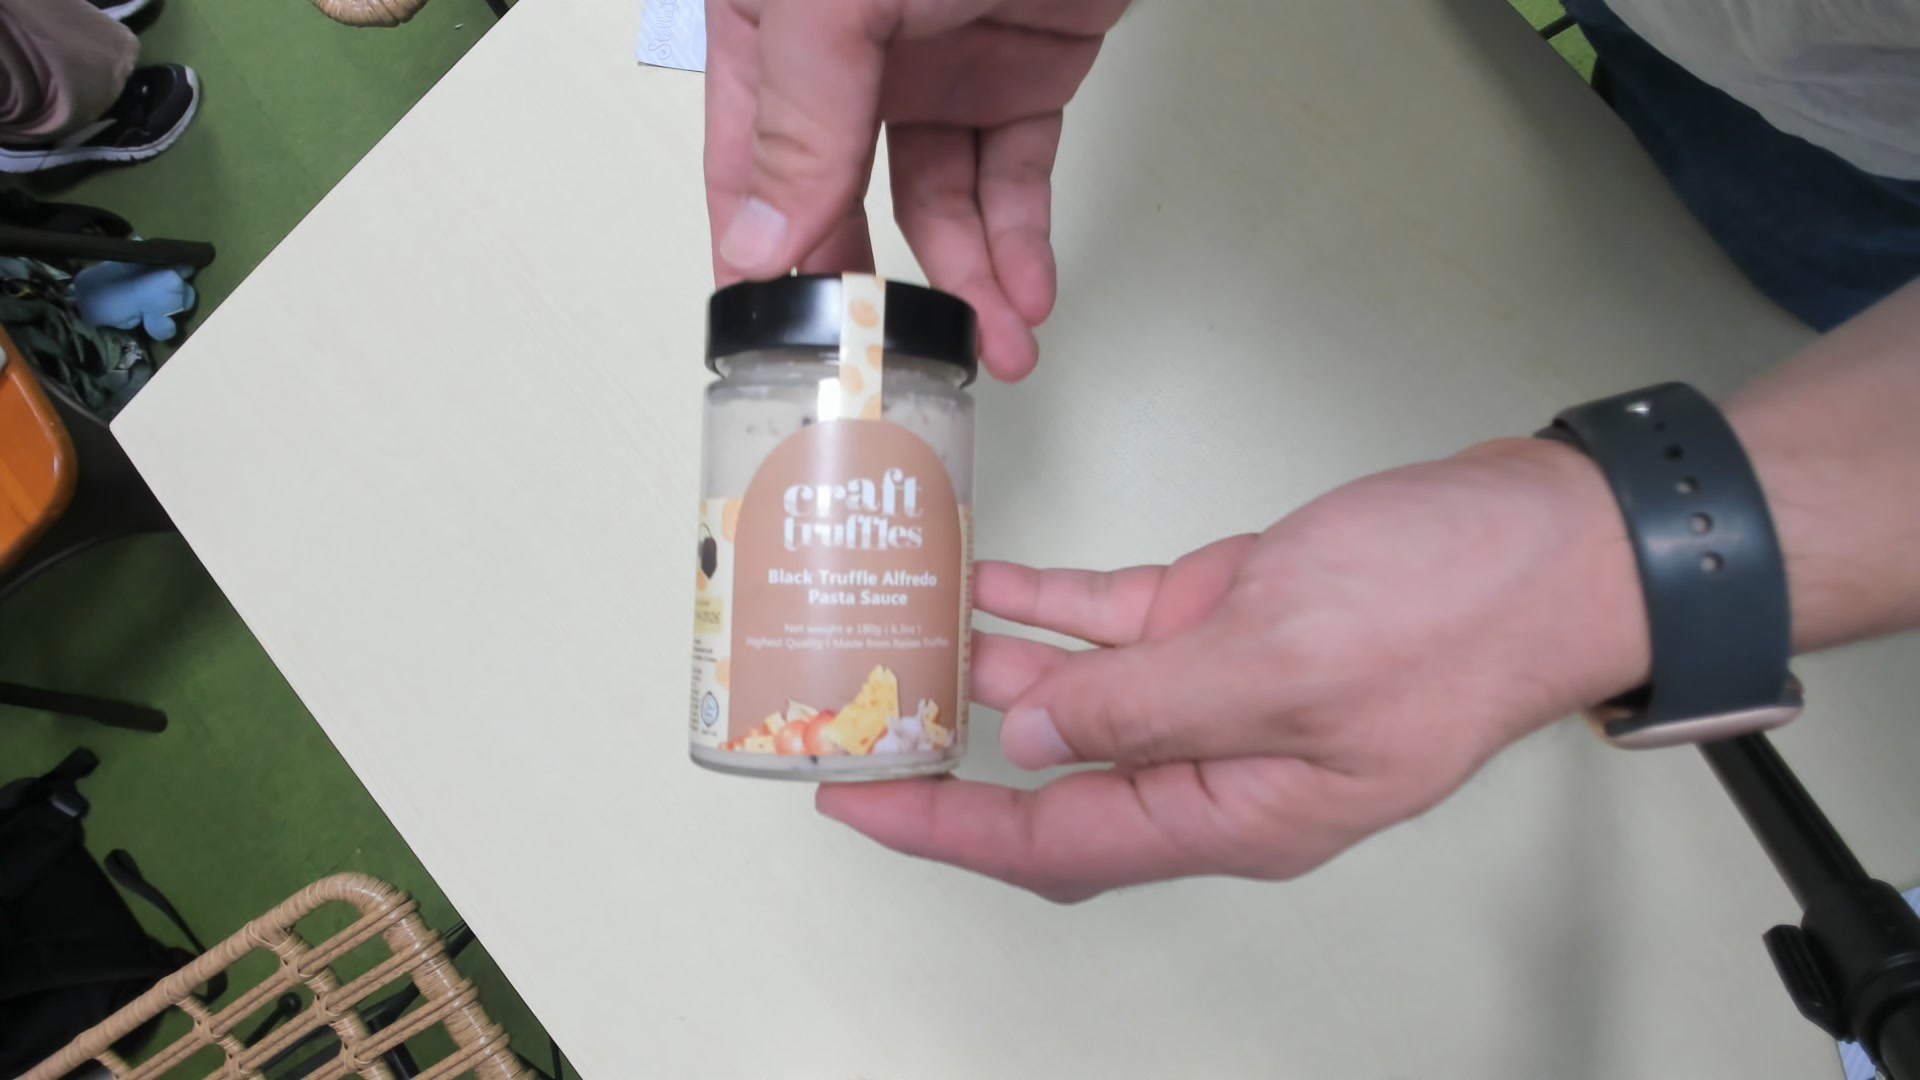PastaSauce_100-199g_Halal_NonHealthy: (696, 277, 980, 775)
